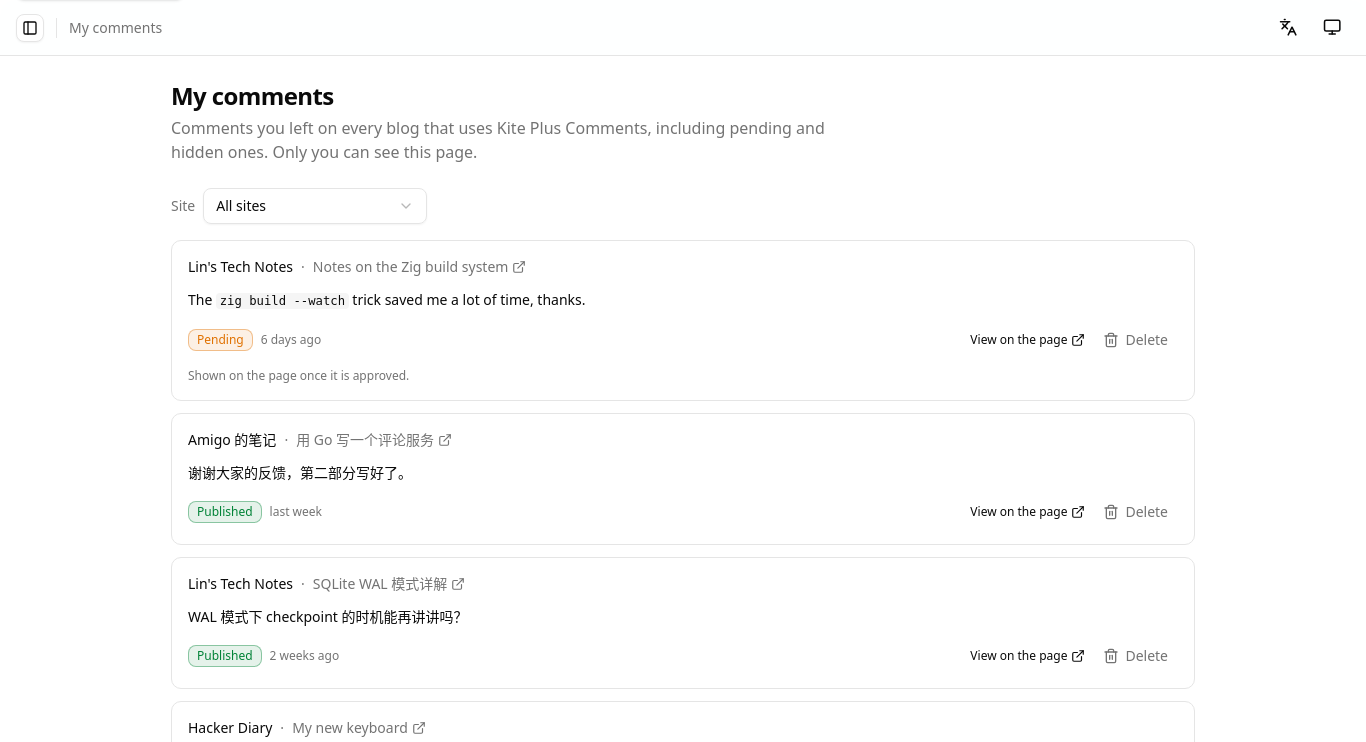
Scenario: reader center › deletes one of my comments after confirming
Click the button with aria-label "Delete this comment on ": (1136, 340) x1=1093 y1=324 x2=1178 y2=356
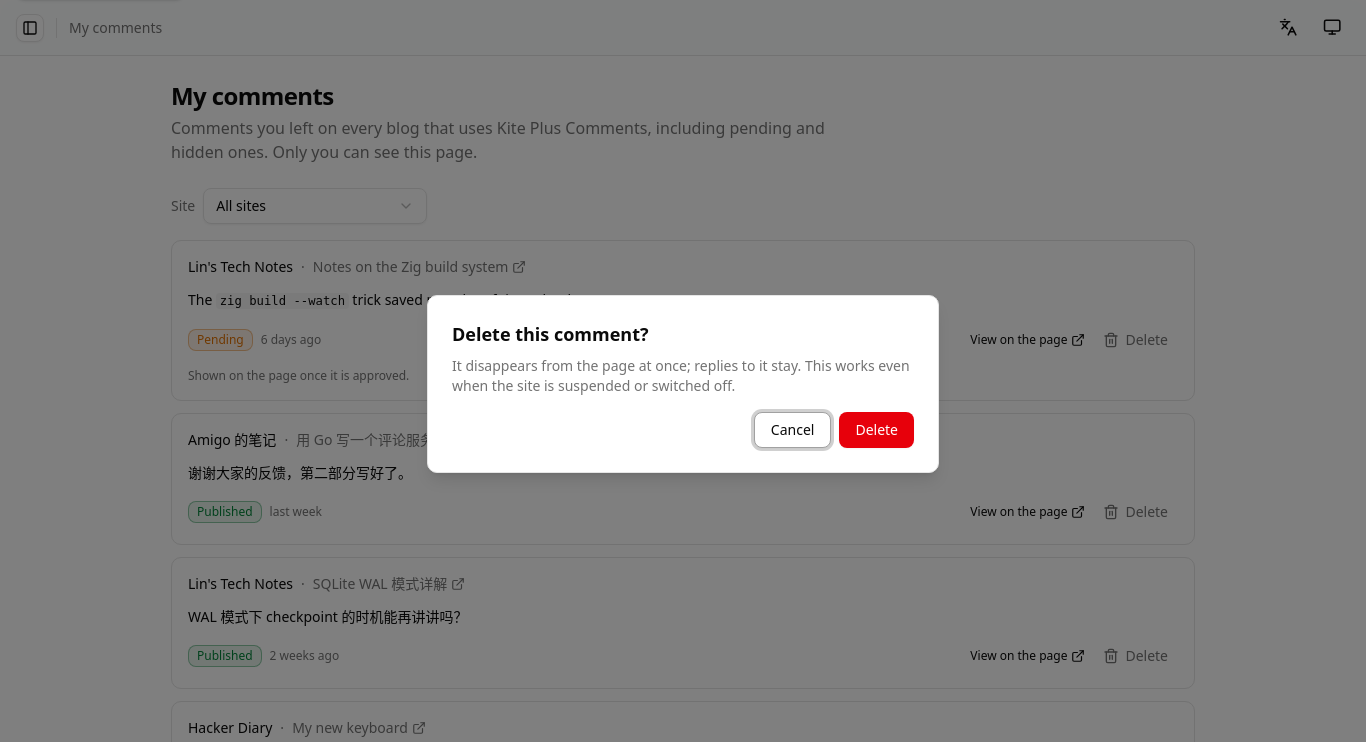
Now the dialog shows "Delete this comment?", box x1=452 y1=322 x2=649 y2=346
Click the button "Delete": (877, 430) x1=839 y1=412 x2=914 y2=448
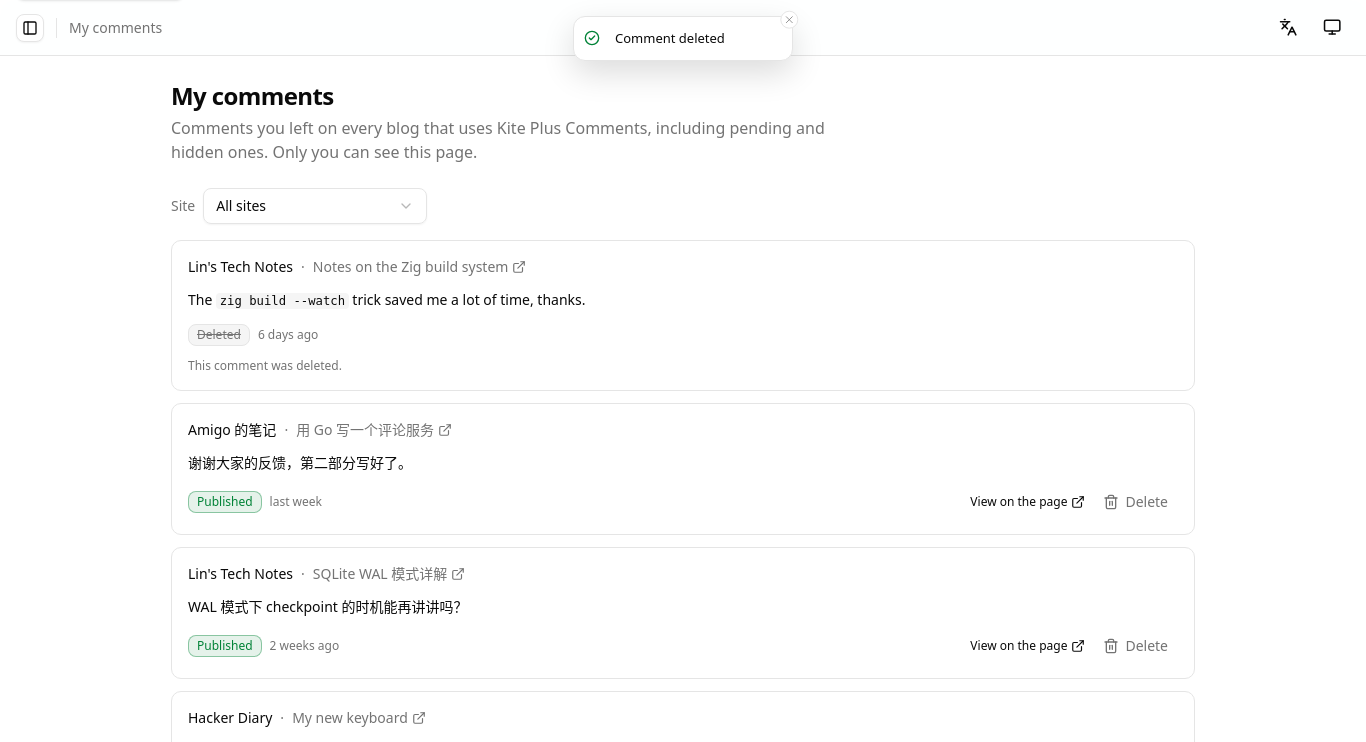
Now the text "This comment was deleted." is shown, box x1=188 y1=357 x2=342 y2=374
